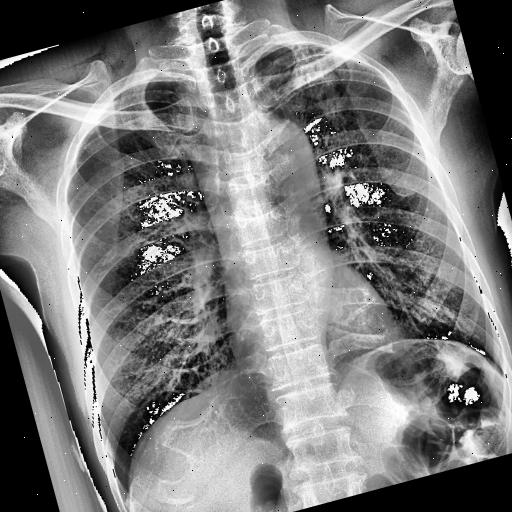0- Aortic enlargement: (236, 108, 321, 202), (238, 109, 320, 205), (240, 106, 322, 200)
13- Pulmonary fibrosis: (284, 35, 352, 130), (280, 38, 348, 128)
6- Infiltration: (278, 28, 356, 132), (280, 38, 348, 128)
7- Lung Opacity: (278, 28, 356, 132)
